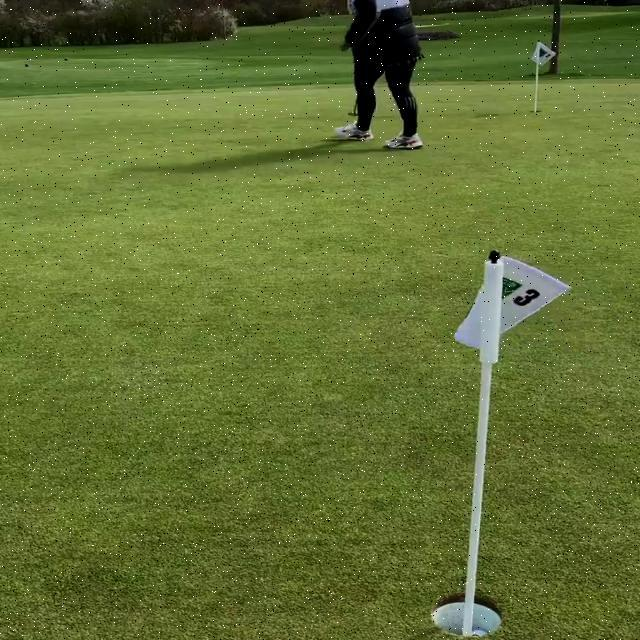ClubHandle: (347, 97, 359, 117)
ClubHead: (347, 112, 358, 116)
GolfBall: (472, 630, 488, 636)
